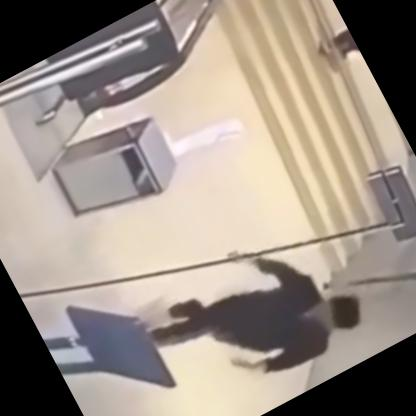Human Body: (122, 203, 378, 415)
